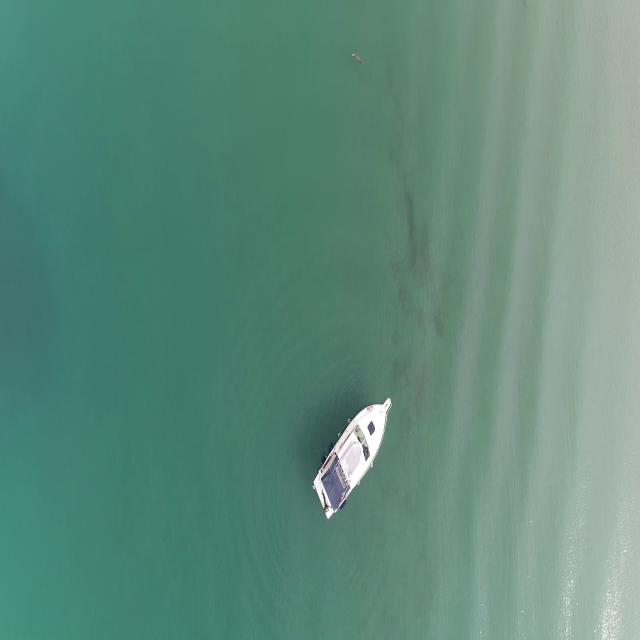boat: (314, 394, 391, 526)
wood: (352, 51, 364, 65)
